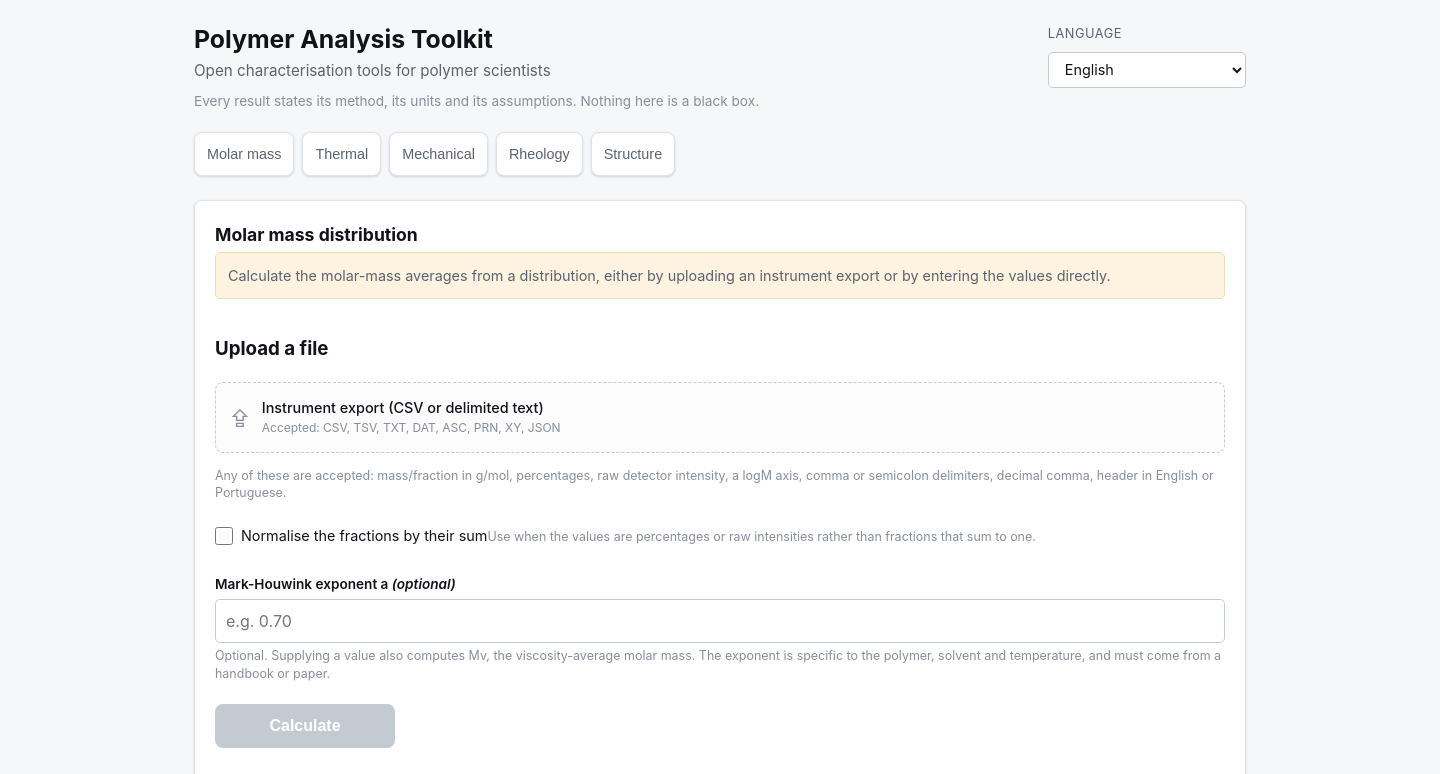
Test: PAT application shell › switches to the Structure module and shows the XRD tab
This screenshot has width=1440, height=774.
Step 1. Click the button "Structure" → (633, 154), box 591,132 -> 675,176
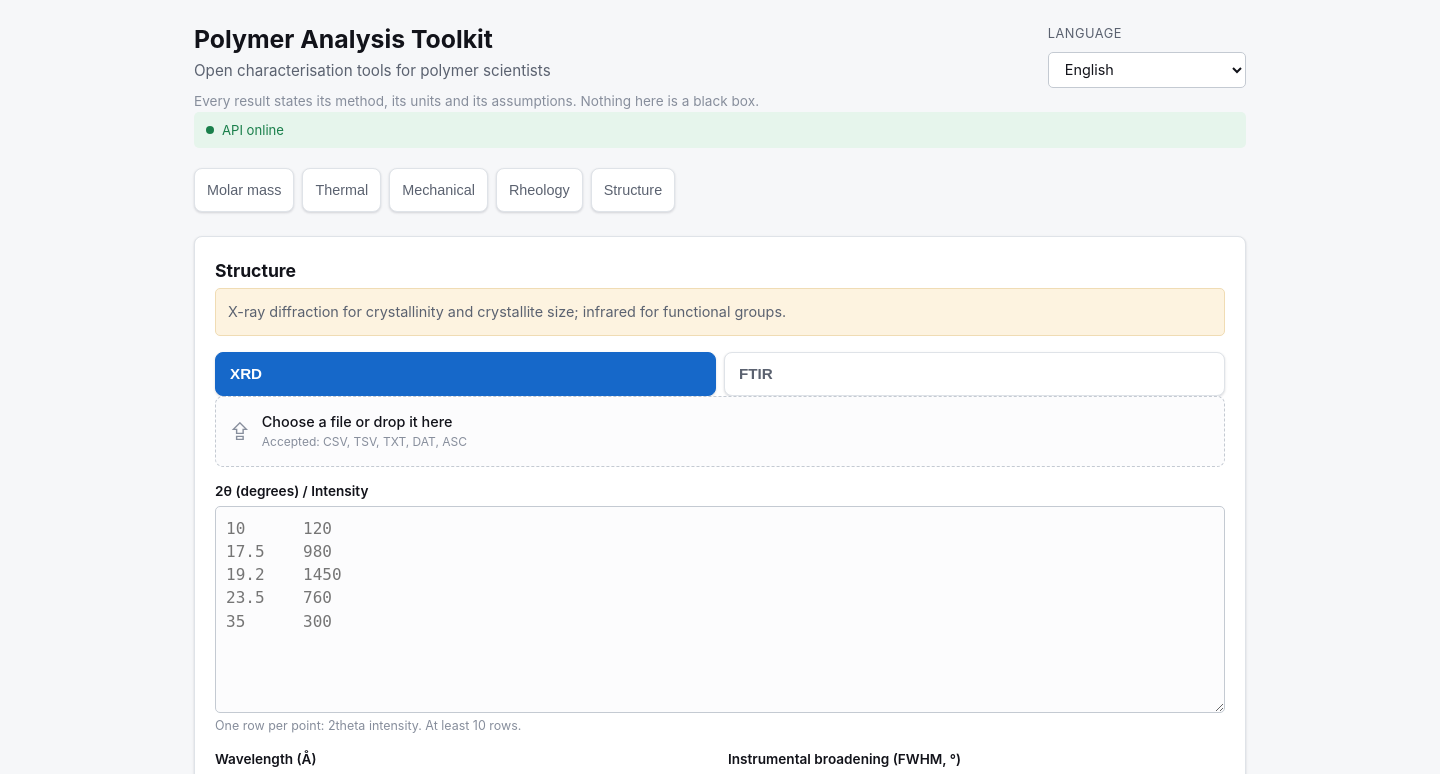
Expected: the button "XRD" is shown, 215,352 -> 716,396
Expected: the button "FTIR" is shown, 724,352 -> 1225,396
